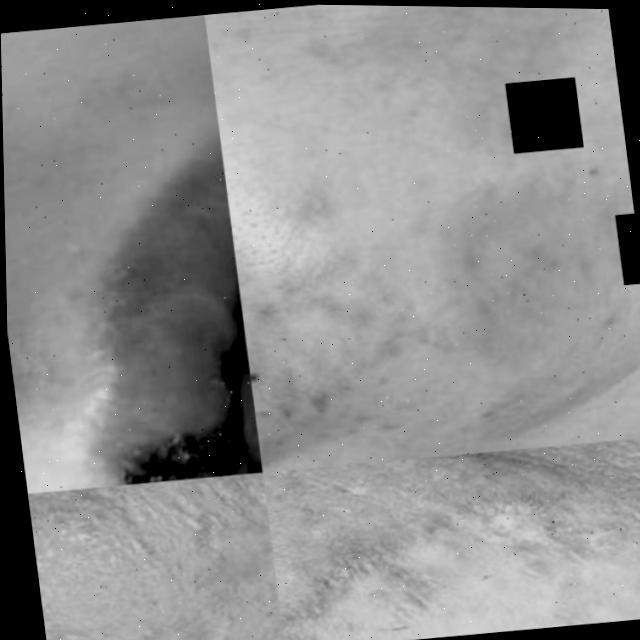lupus-detected: (250, 4, 640, 423), (76, 122, 262, 486), (266, 470, 640, 640), (26, 467, 285, 640)
